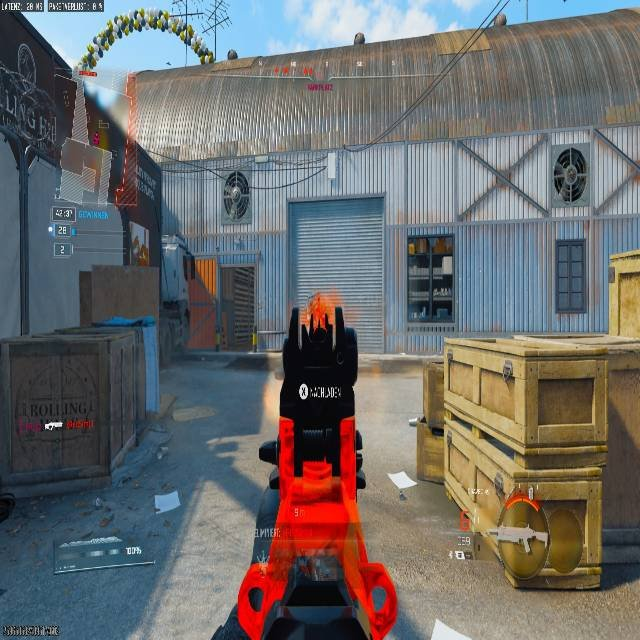player: (222, 168, 250, 224), (307, 292, 329, 331)
